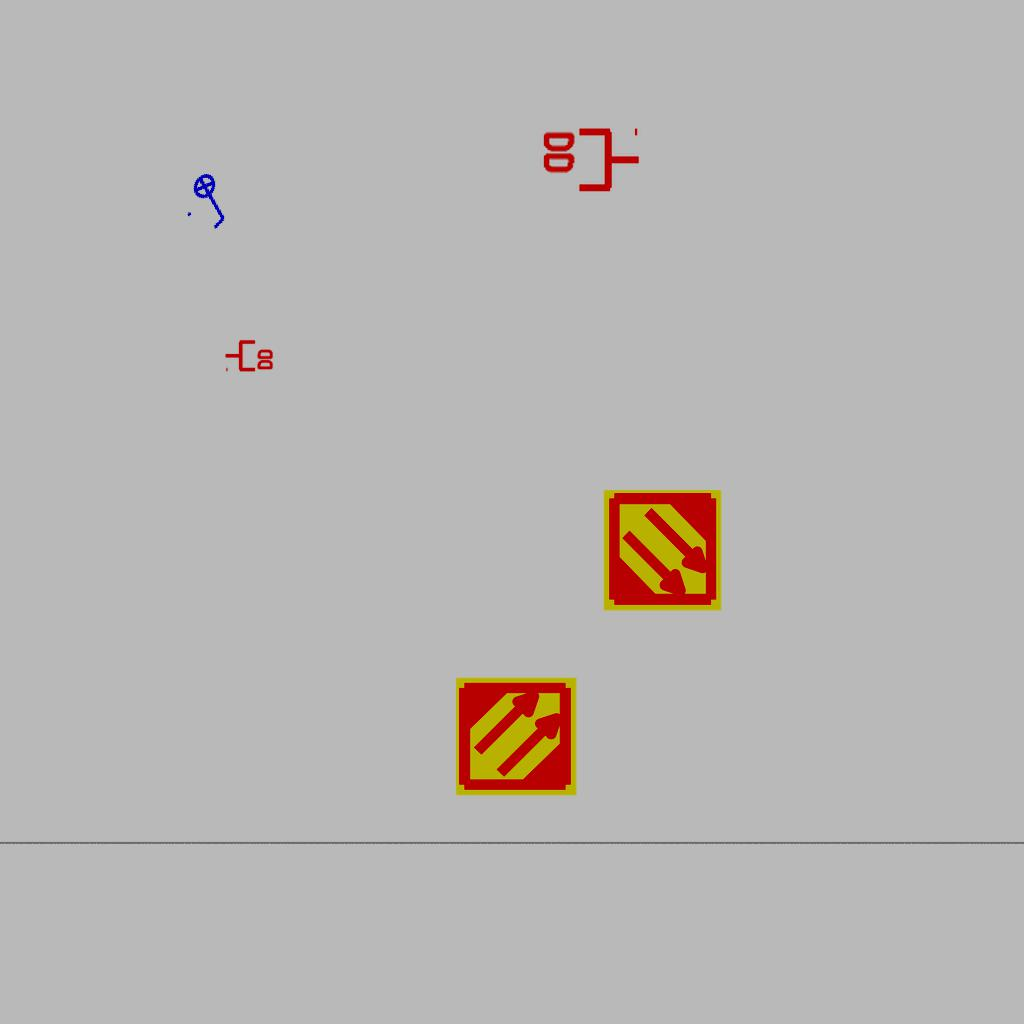ASR_Ansaugrauchmelder: (600, 488, 725, 613), (454, 674, 579, 799)
Ausschalter_beleuchtet: (177, 164, 247, 236)
Datenanschluss_zweifach: (539, 127, 642, 196), (224, 338, 275, 372)
